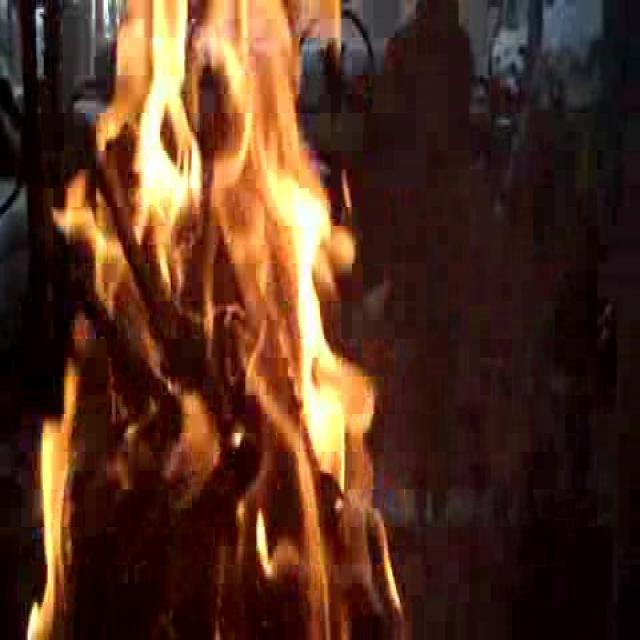fire: (37, 22, 352, 570)
